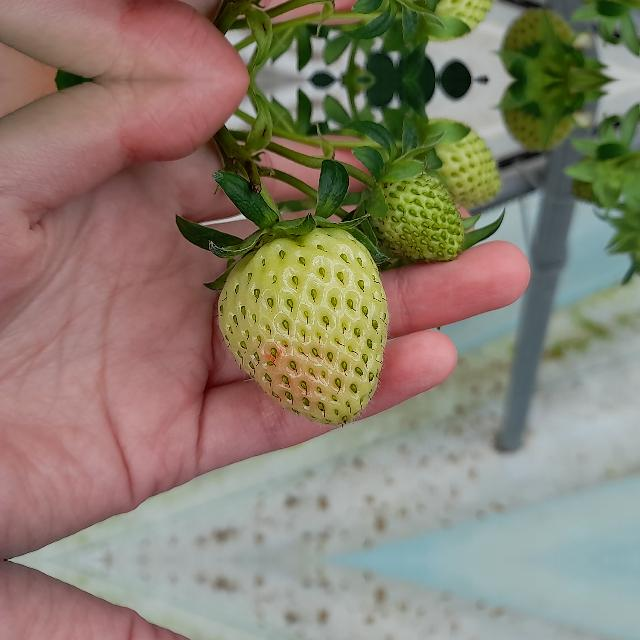Health_50: (218, 227, 388, 425)
